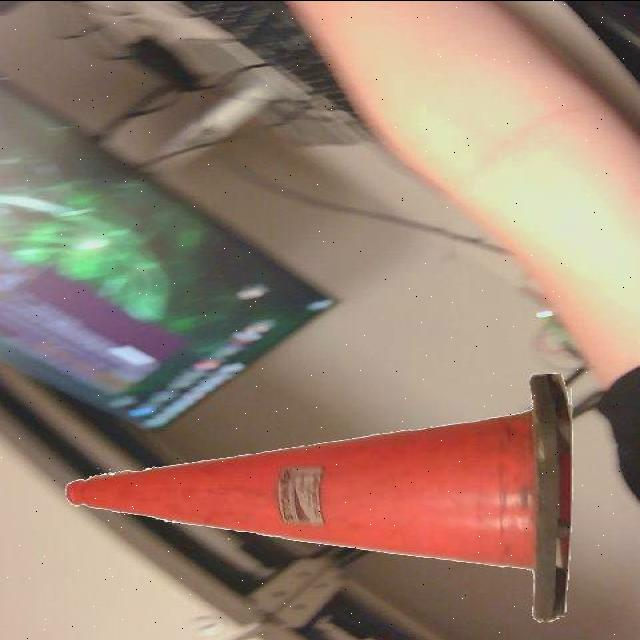traffic cone: (56, 369, 582, 629)
